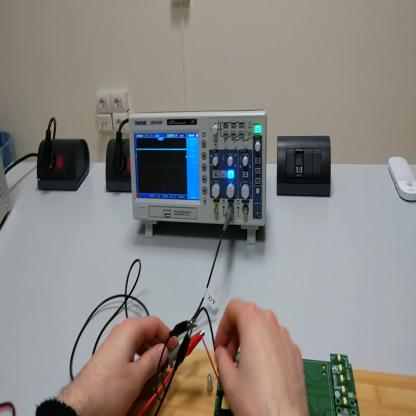hand: (214, 298, 311, 416), (75, 314, 175, 416)
low voltage board: (201, 308, 360, 414)
oscilloscope: (127, 107, 269, 247)
oscilloscope probe tip: (169, 342, 183, 364)
power supply: (1, 150, 13, 235)
socket: (38, 137, 92, 196), (106, 135, 130, 194)
working area: (129, 347, 416, 415)
